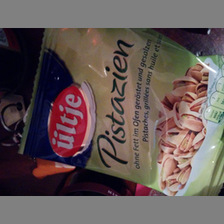nuts: (16, 29, 224, 195)
